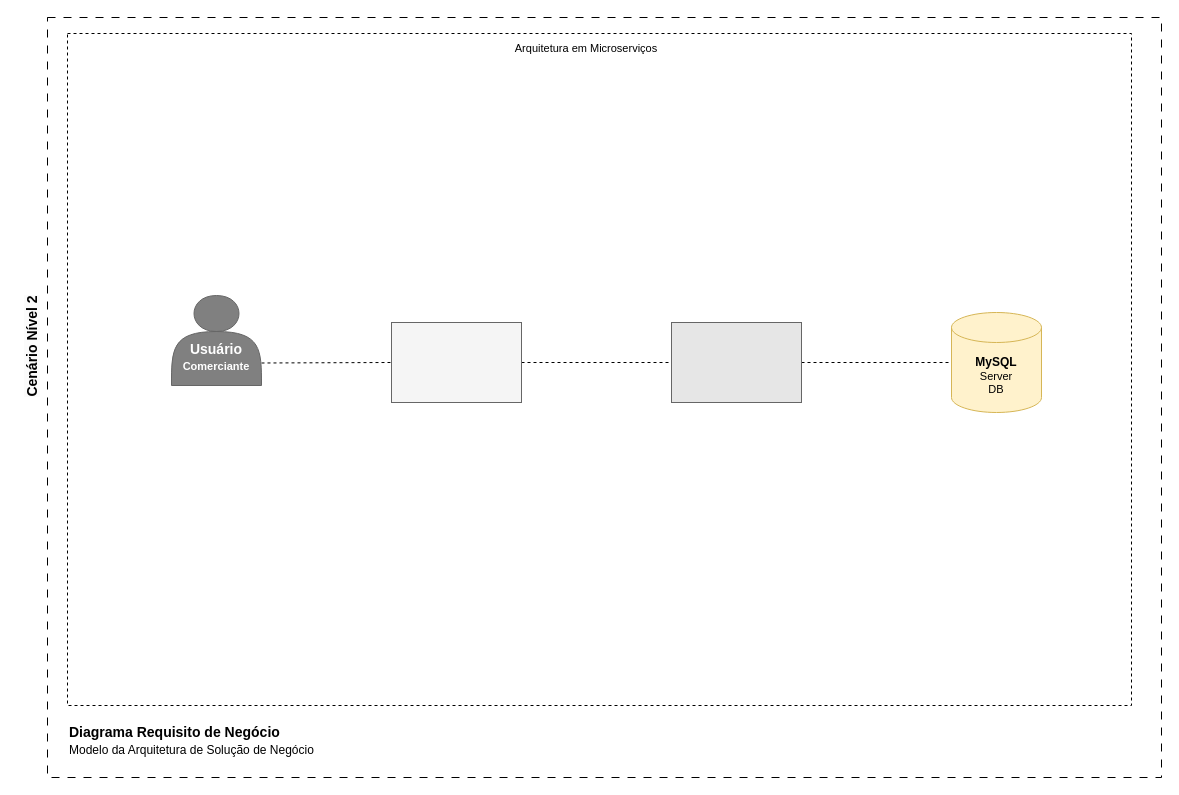
The diagram is 1179 pixels wide and 795 high, and some of its shapes have lost their labels. Here are the shapes that lost their labels. From the top down, the centre of each, then its label:
the point at 456,362: Frontend/App (Aplicação Frontend Web ou App Mobile do Cliente)
the point at 736,362: Backend API (API DotNetCore 7.0)
